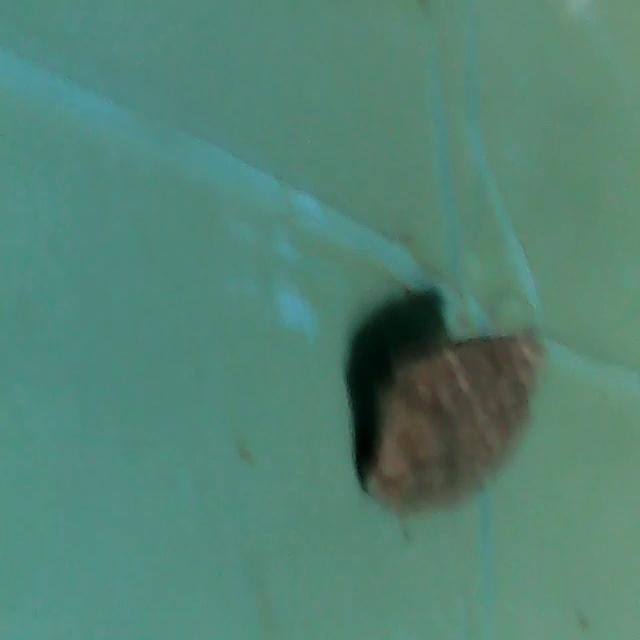rock: (350, 328, 558, 526)
